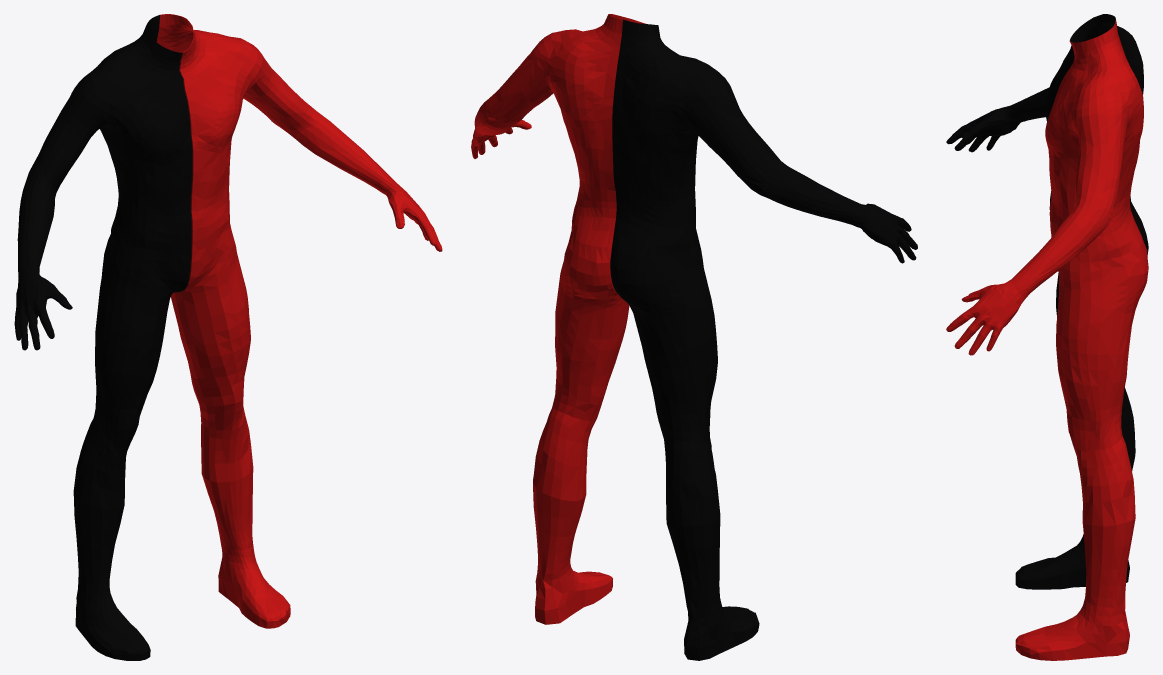
The model's file is mhw_culturalibre_hero_suit_3.glb.
3 views of the same model, side by side, from view 1: azimuth 30°, elevation 25°; view 2: azimuth 150°, elevation 25°; view 3: azimuth 270°, elevation 25° (orthographic). The views are drawn at different scales.
Parts seen in each view (by area): view 1: mhw_culturalibre_hero_suit_3; view 2: mhw_culturalibre_hero_suit_3; view 3: mhw_culturalibre_hero_suit_3.
Part boxes in pixels (left/top/right/bottom): mhw_culturalibre_hero_suit_3: left=14, top=14, right=442, bottom=660; mhw_culturalibre_hero_suit_3: left=471, top=14, right=917, bottom=660; mhw_culturalibre_hero_suit_3: left=946, top=14, right=1148, bottom=660.
Bounding box in the file's own units: 1.22 × 1.65 × 0.5073.
Materials: 1 (1 with a texture image).
